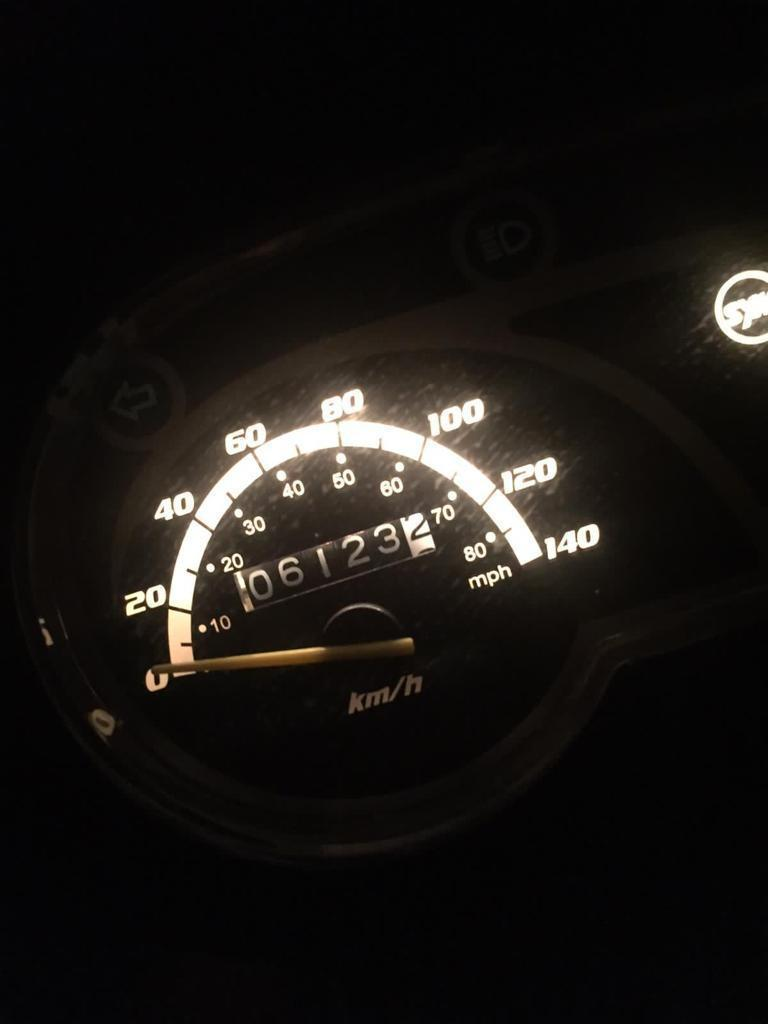0: (244, 569, 272, 602), (230, 551, 243, 569), (254, 515, 266, 534)
1: (313, 542, 334, 581)
2: (402, 509, 431, 547), (340, 533, 369, 569)
3: (371, 522, 400, 556), (241, 517, 253, 539)
6: (276, 551, 303, 589)
7: (431, 506, 442, 524)
odometer: (229, 509, 441, 614)
